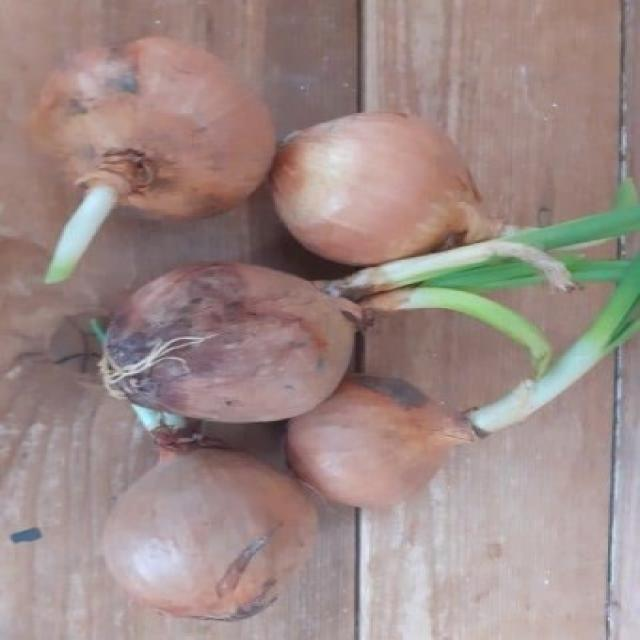onion: (33, 32, 268, 245), (96, 424, 313, 640), (86, 258, 358, 424), (274, 107, 504, 266), (302, 367, 480, 512)
